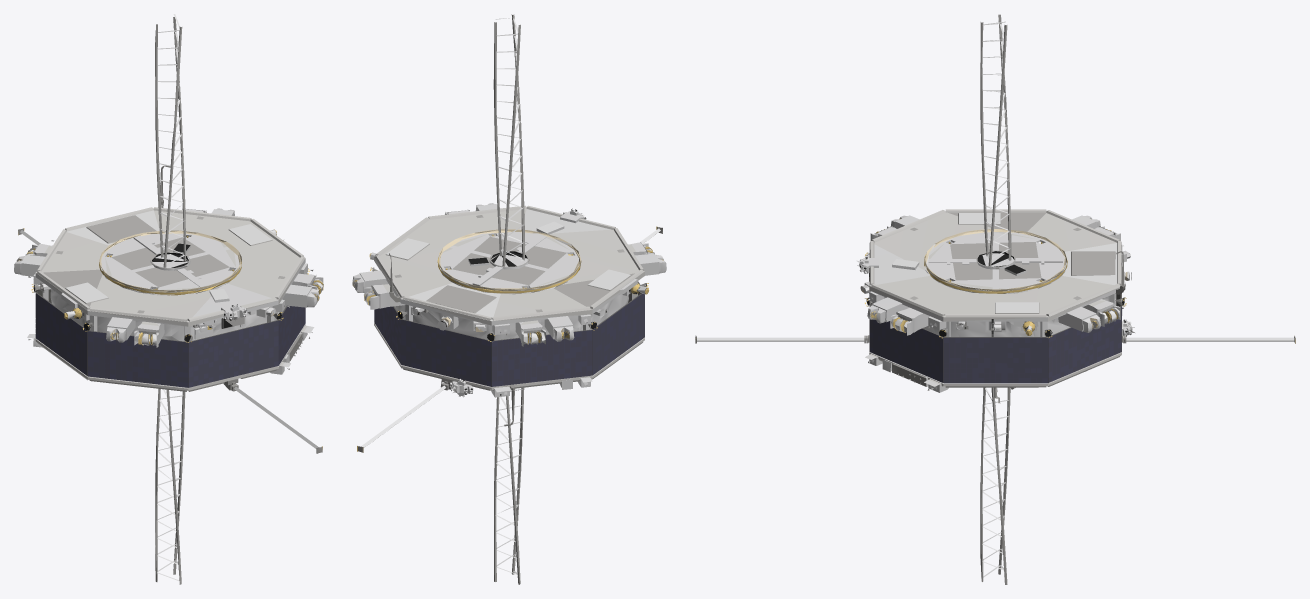
File: mms.glb
3 renders of one model, left to right at view 1: azimuth 30°, elevation 25°; view 2: azimuth 150°, elevation 25°; view 3: azimuth 270°, elevation 25°, orthographic.
Visible parts, largest first — view 1: body, solar-panel, foil; view 2: body, solar-panel, foil; view 3: body, solar-panel, foil.
Boxes of the visible parts, x1,y1,x2,y2 form: body: [14, 14, 323, 584]; solar-panel: [35, 285, 305, 387]; foil: [23, 228, 323, 449]; body: [352, 14, 666, 584]; solar-panel: [374, 281, 644, 386]; foil: [353, 226, 663, 451]; body: [695, 14, 1295, 584]; solar-panel: [869, 263, 1121, 383]; foil: [865, 229, 1295, 343].
Size of the model in its own units: 1.77 by 3.89 by 3.76.
